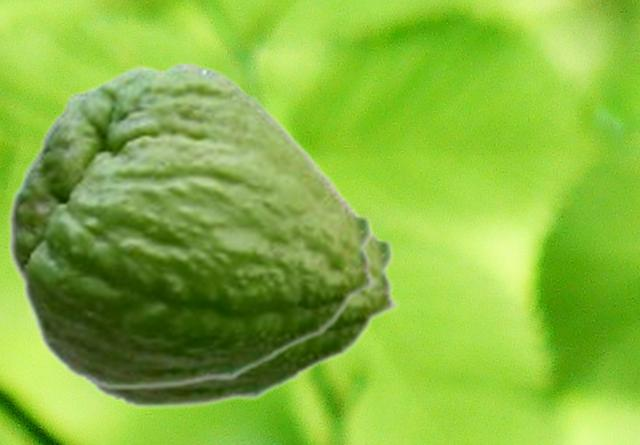sayote: (7, 60, 380, 391), (81, 121, 401, 410)
